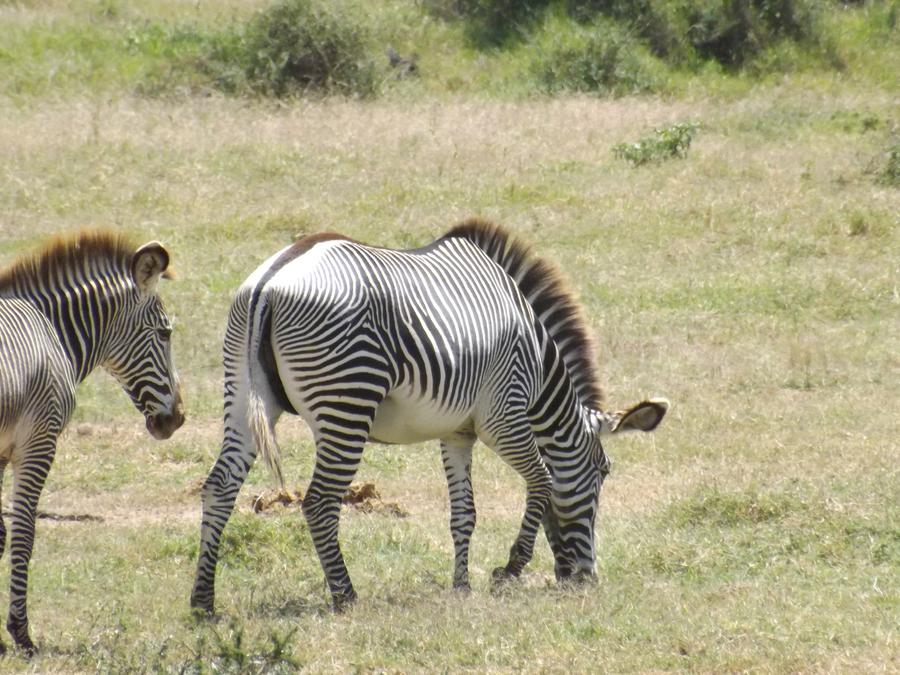zebra_grevys: (230, 220, 535, 414)
